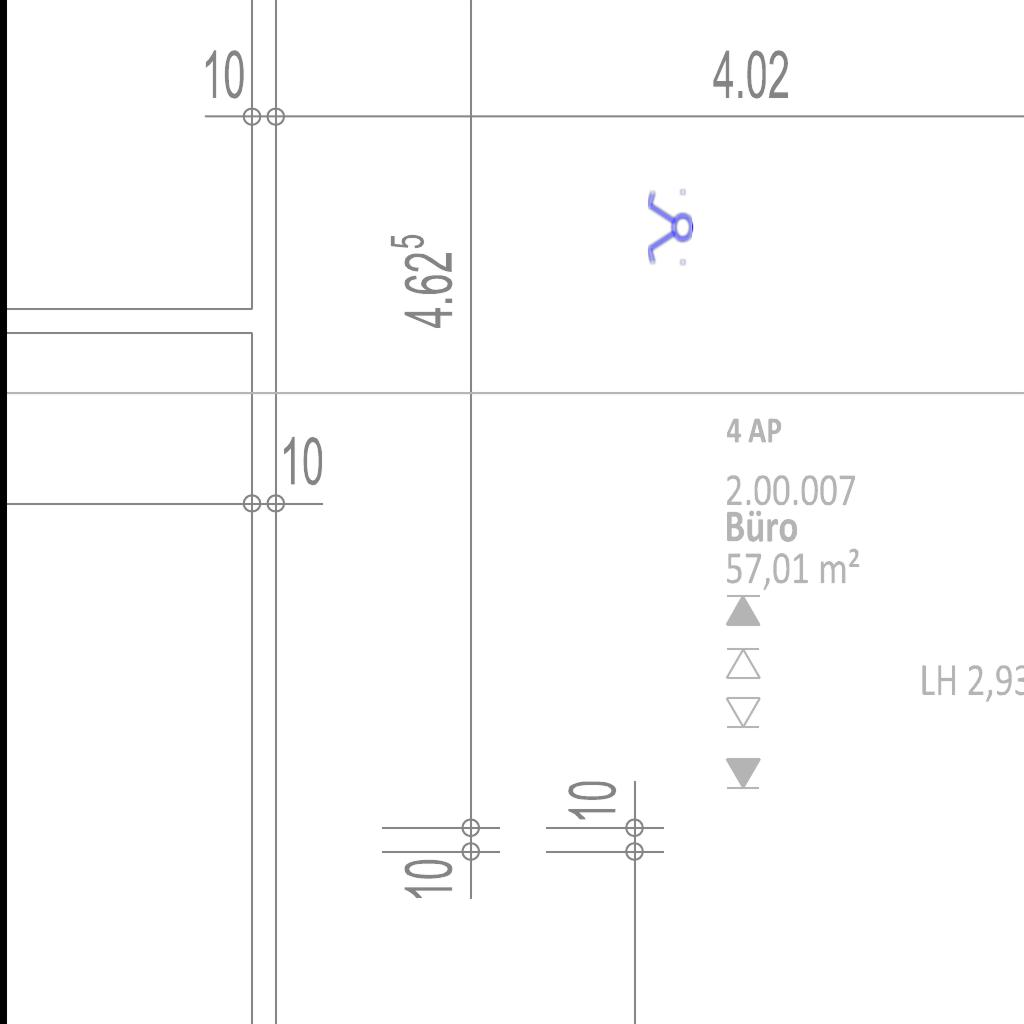Serienschalter: (646, 186, 694, 270)
